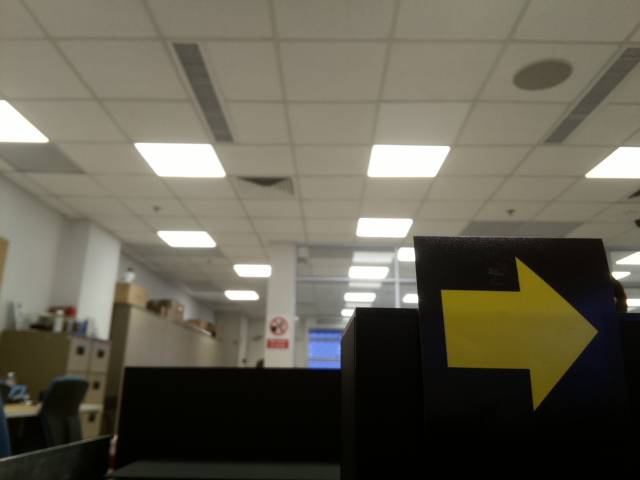right: (433, 245, 604, 425)
